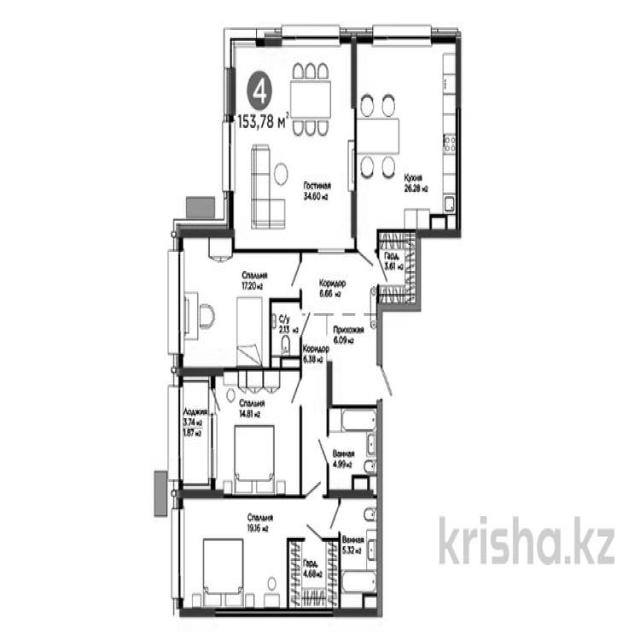bathroom: (330, 409, 380, 495), (340, 502, 378, 609), (273, 302, 300, 359)
hallway: (303, 253, 377, 312), (330, 317, 378, 405), (303, 318, 326, 492), (180, 380, 212, 489)
kitchen: (358, 40, 459, 230)
living_room: (234, 42, 356, 248), (182, 499, 286, 611), (180, 253, 270, 369), (216, 371, 301, 493)
other: (291, 540, 339, 608), (380, 237, 418, 304)
